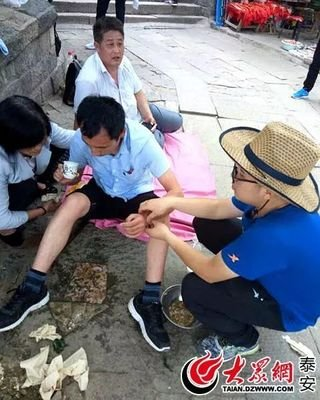fall: (7, 91, 181, 345)
